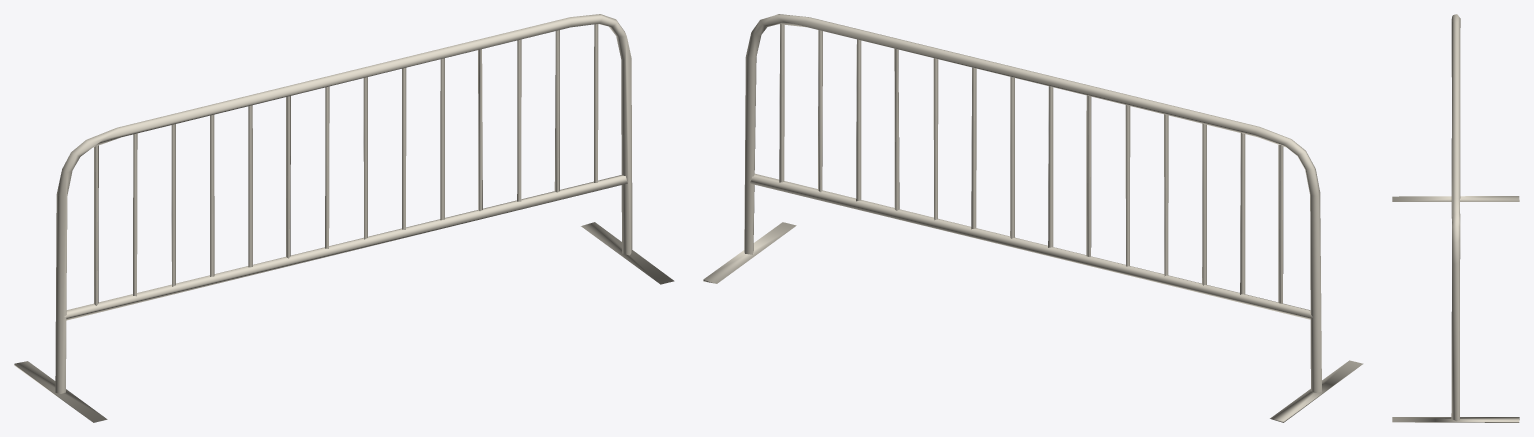
Rendered from MetalBarrier_Decimated.fbx.
3 views of the same model, side by side, from view 1: azimuth 30°, elevation 25°; view 2: azimuth 150°, elevation 25°; view 3: azimuth 270°, elevation 25° (orthographic). The views are drawn at different scales.
Parts seen in each view (by area): view 1: MetalBarrier; view 2: MetalBarrier; view 3: MetalBarrier.
Part boxes in pixels (x1,y1,x2,y2): MetalBarrier: (14,14,674,422); MetalBarrier: (703,14,1363,422); MetalBarrier: (1392,14,1519,422).
Size of the model in its own units: 320 by 132 by 76.25.
